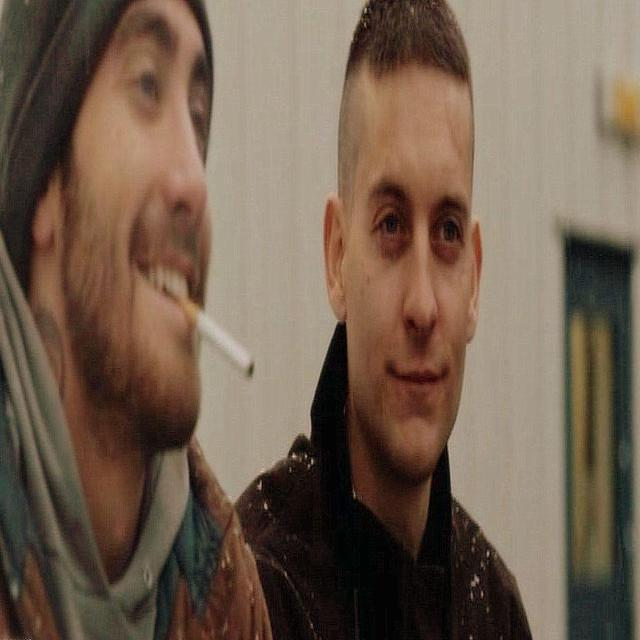cigarette: (170, 287, 264, 379)
